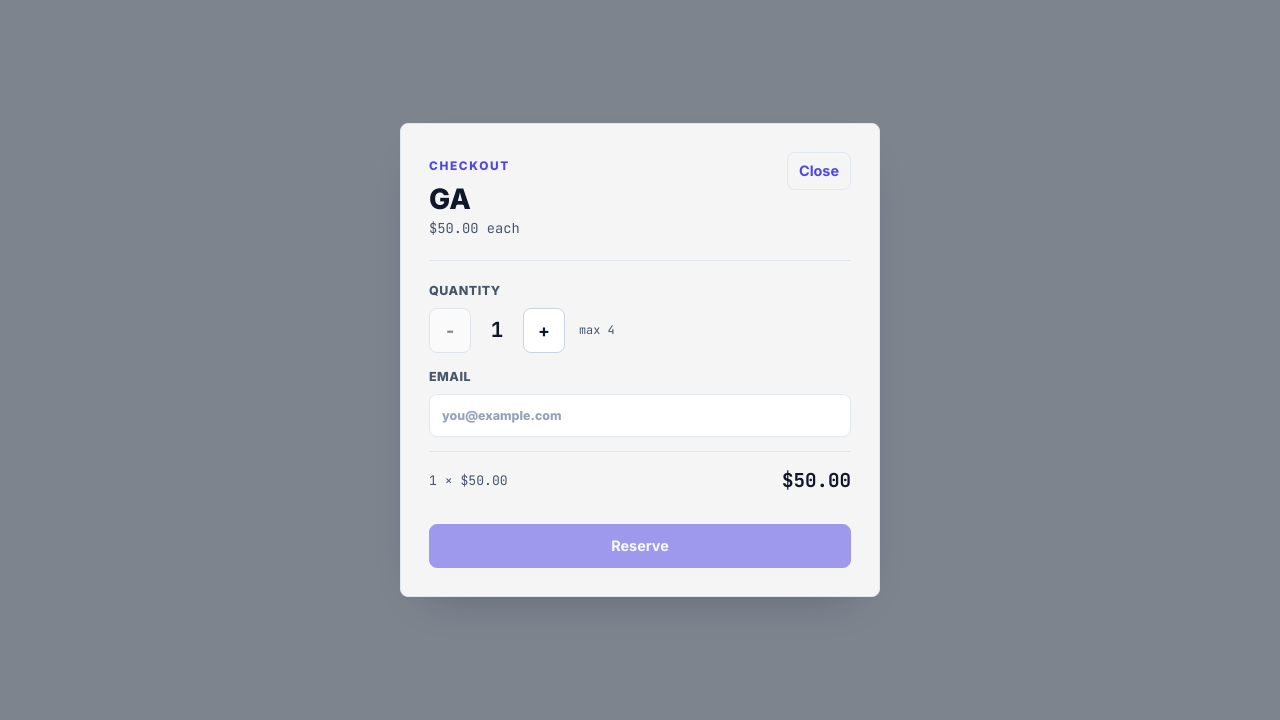
Test: Checkout › adjusts quantity (capped at max) and updates the total
Step 1. Click the button named "increase quantity" → coordinates (544, 331), box 523,308 -> 565,353
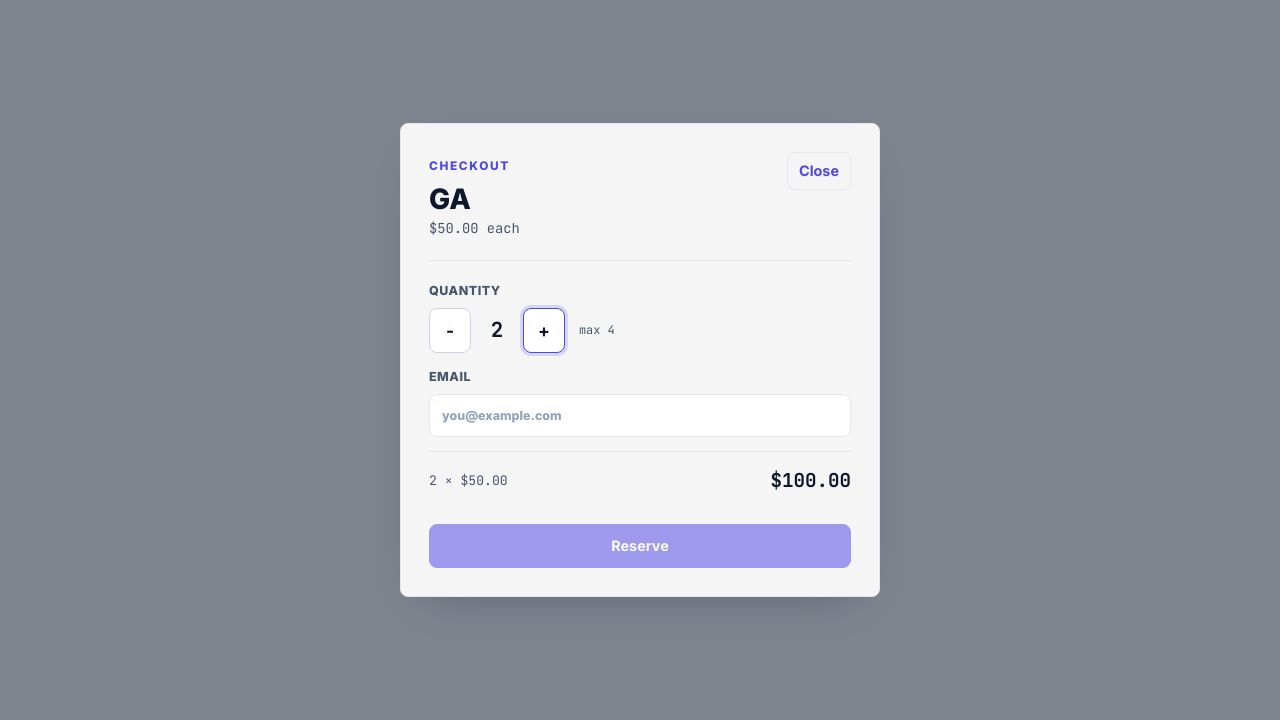
Check: the text "$100.00" is shown, box 770,466 -> 851,496
Step 2. Click the button named "increase quantity" → coordinates (544, 331), box 523,308 -> 565,353
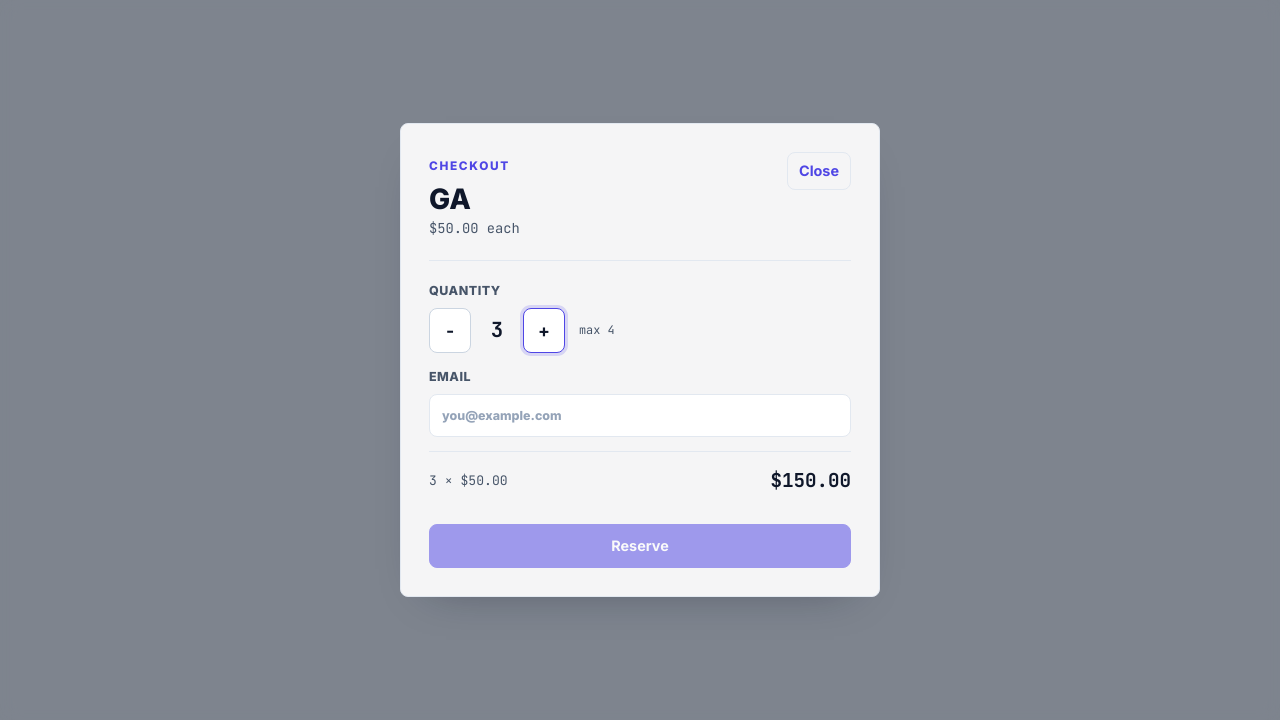
Step 3. Click the button named "increase quantity" → coordinates (544, 331), box 523,308 -> 565,353
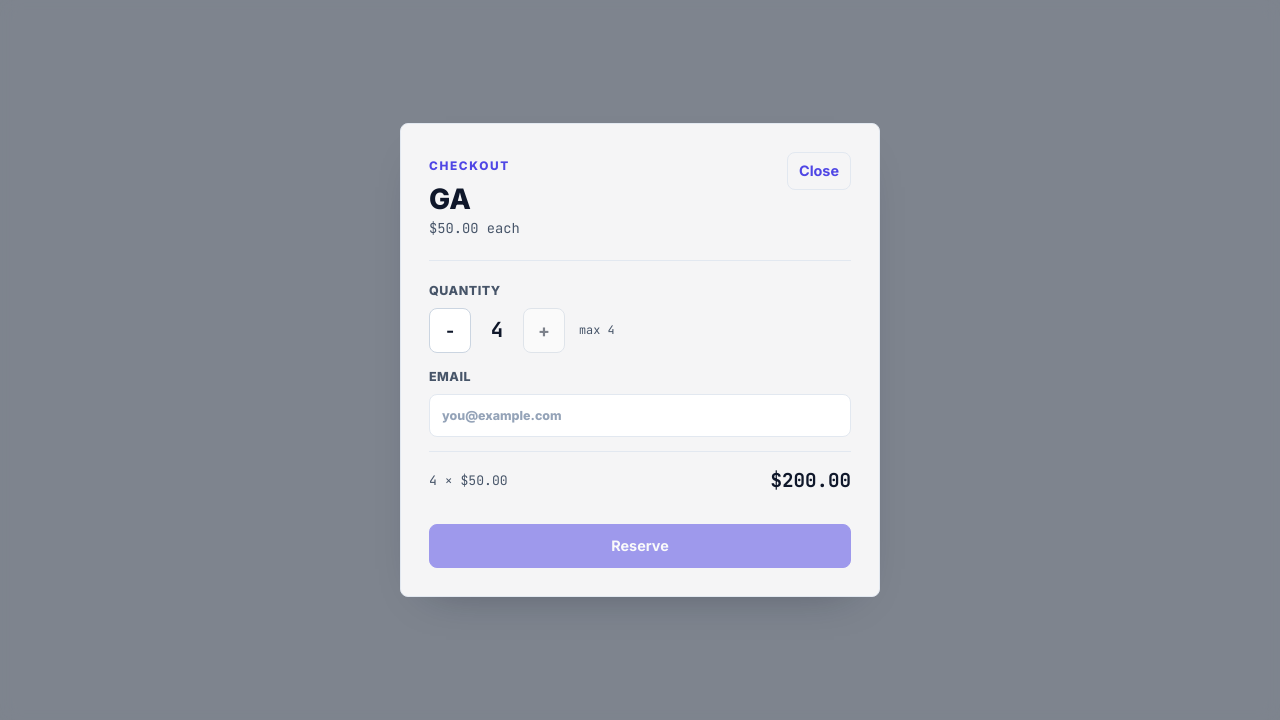
Check: the button named "increase quantity" is disabled, box 523,308 -> 565,353
Check: the text "$200.00" is shown, box 770,466 -> 851,496
